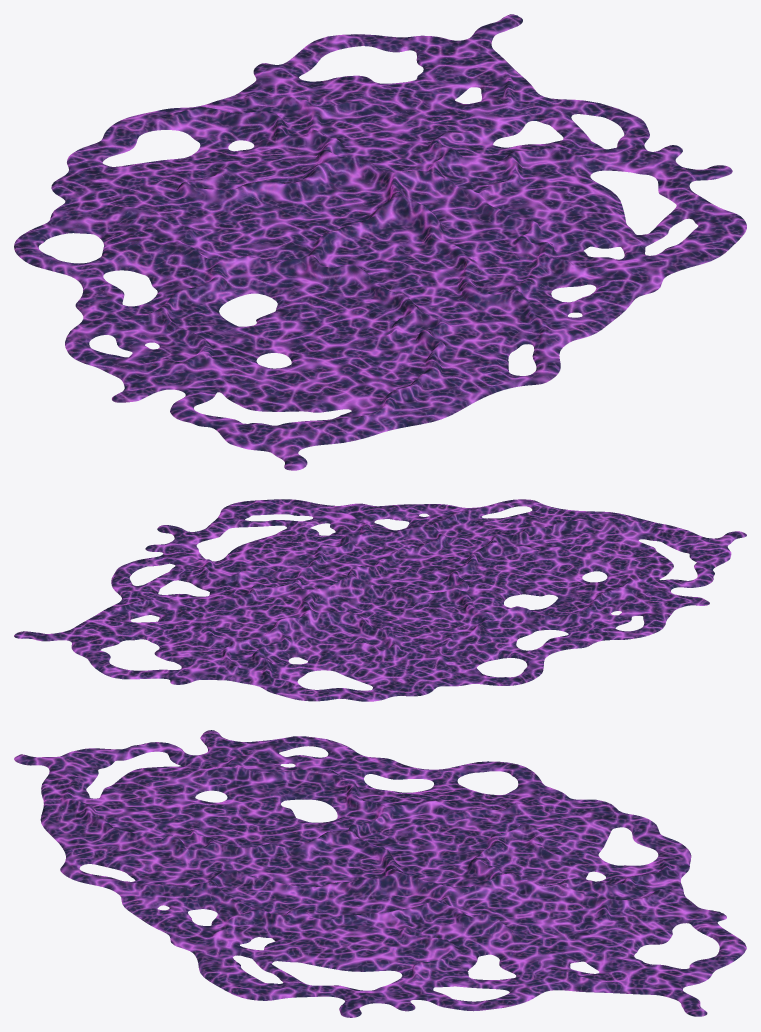
File: caos_stl_chaosgrowth_01c_v35.glb
The picture shows the model from 3 angles, top to bottom: view 1: azimuth 30°, elevation 25°; view 2: azimuth 150°, elevation 25°; view 3: azimuth 270°, elevation 25°; orthographic projection. The views are drawn at different scales.
Visible parts, largest first — view 1: caos_stl_chaosgrowth_01c; view 2: caos_stl_chaosgrowth_01c; view 3: caos_stl_chaosgrowth_01c.
Boxes of the visible parts, left/top/right/bottom form: caos_stl_chaosgrowth_01c: left=14, top=14, right=746, bottom=470; caos_stl_chaosgrowth_01c: left=14, top=499, right=746, bottom=701; caos_stl_chaosgrowth_01c: left=14, top=730, right=746, bottom=1017.
Bounding box in the file's own units: 28.5 × 1.04 × 30.74.
1 material, 1 textured.
